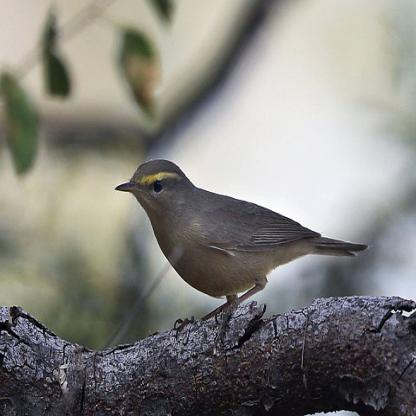Burung: (111, 156, 367, 326)
